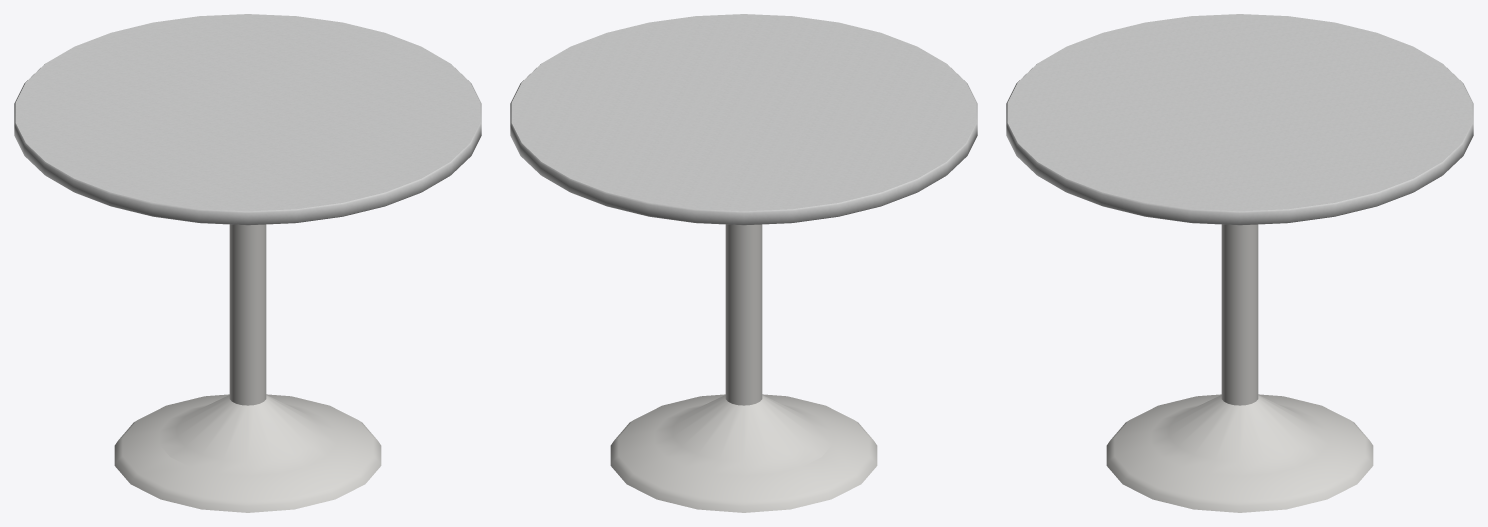
The model's file is Table03.FBX.
The picture shows the model from 3 angles, left to right: view 1: azimuth 30°, elevation 25°; view 2: azimuth 150°, elevation 25°; view 3: azimuth 270°, elevation 25°; orthographic projection.
Parts seen in each view (by area): view 1: Table01_3; view 2: Table01_3; view 3: Table01_3.
Part boxes in pixels (x1,y1,x2,y2): Table01_3: (14,14,481,512); Table01_3: (510,14,977,512); Table01_3: (1006,14,1473,512).
Size of the model in its own units: 99.33 by 80 by 98.78.
